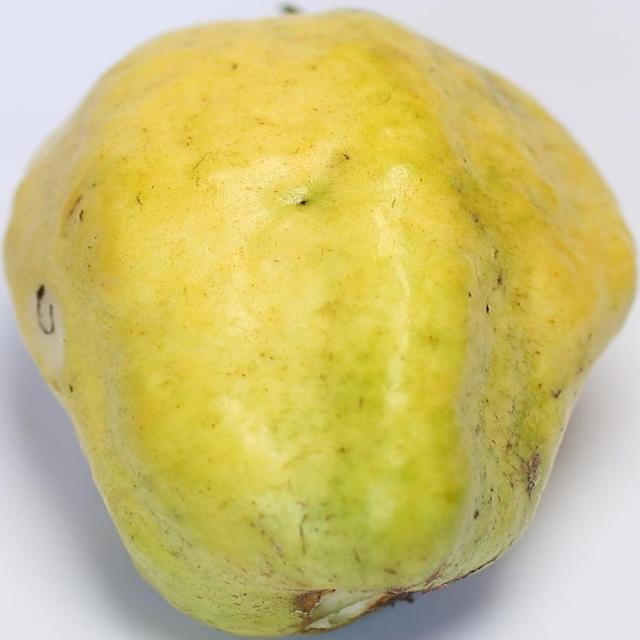Good_Guava: (4, 9, 638, 638)
